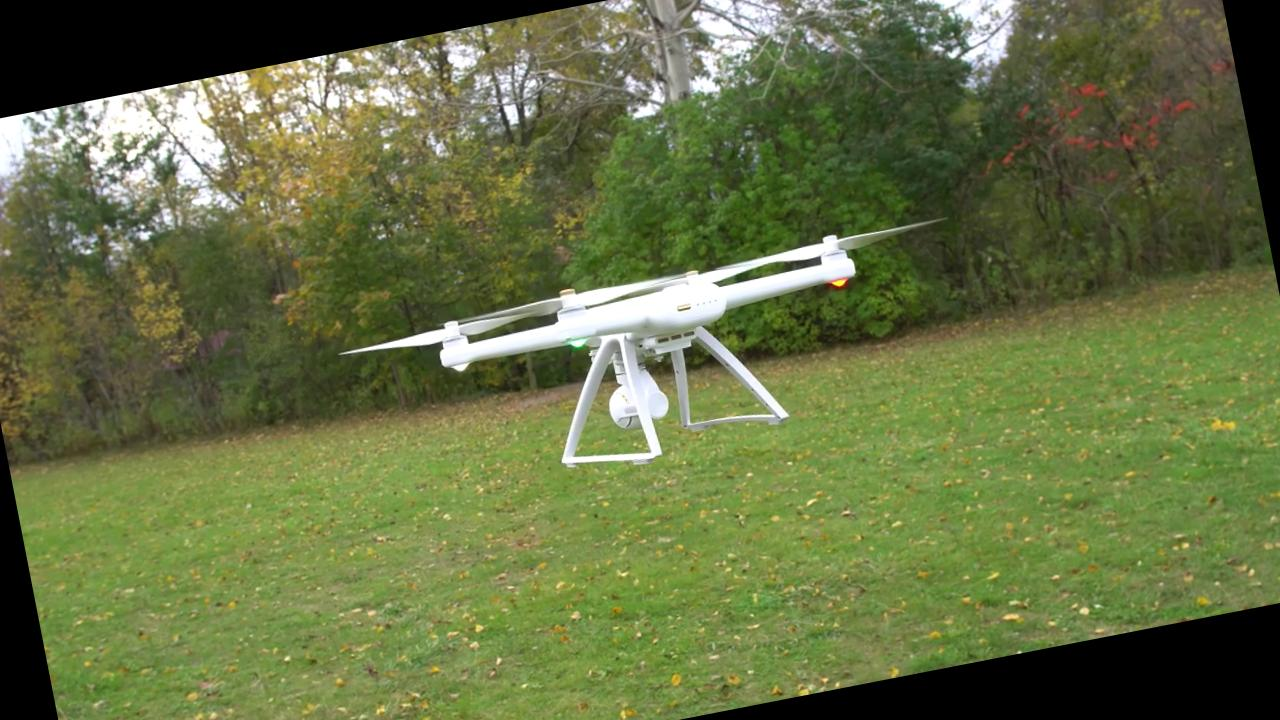drone: (324, 194, 976, 438)
